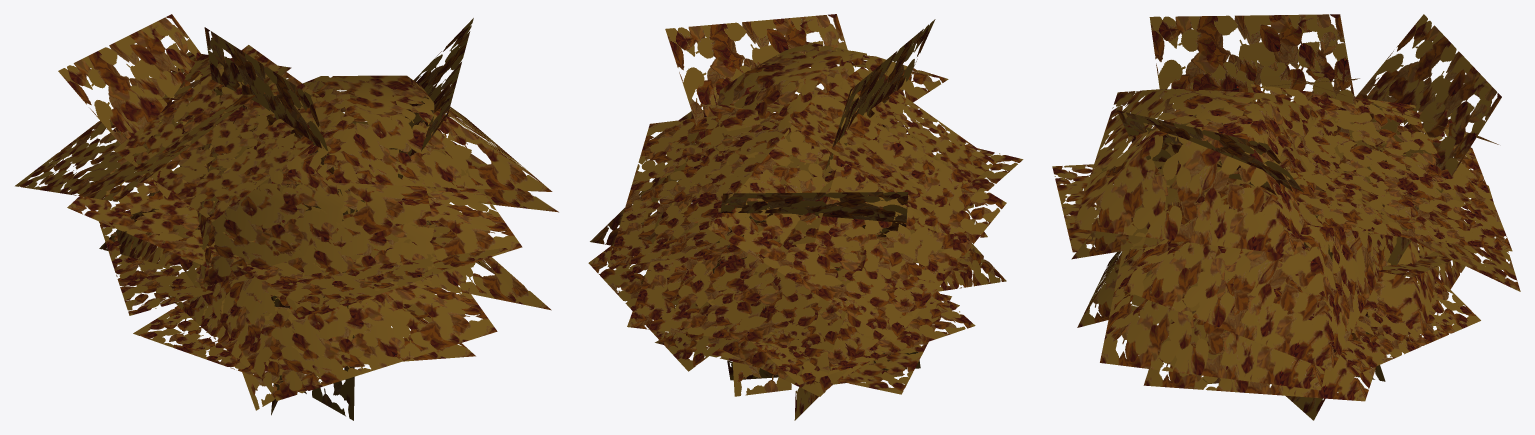
File: NewBush1.fbx
The picture shows the model from 3 angles, left to right: view 1: azimuth 30°, elevation 25°; view 2: azimuth 150°, elevation 25°; view 3: azimuth 270°, elevation 25°; orthographic projection. The views are drawn at different scales.
Parts seen in each view (by area): view 1: Plane.029; view 2: Plane.029; view 3: Plane.029.
Boxes of the visible parts, bbox=[...] form: Plane.029: bbox=[15, 14, 558, 420]; Plane.029: bbox=[588, 14, 1023, 420]; Plane.029: bbox=[1052, 14, 1520, 420].
Size of the model in its own units: 195 by 160 by 198.
